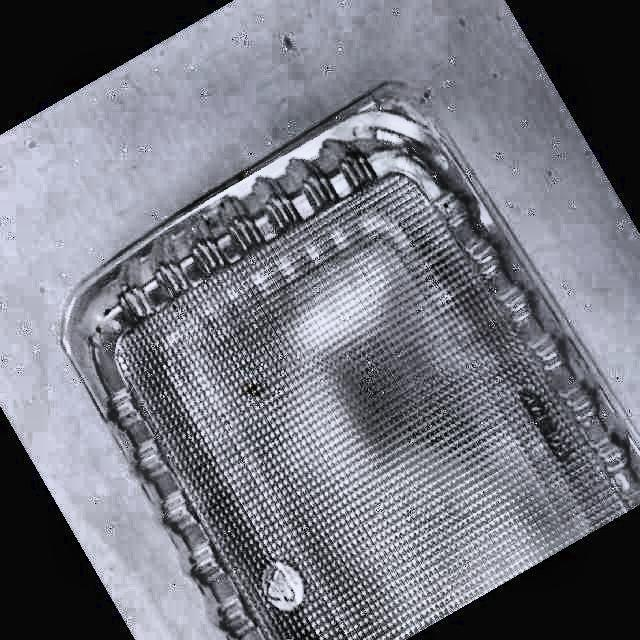plastic: (62, 85, 640, 640)
